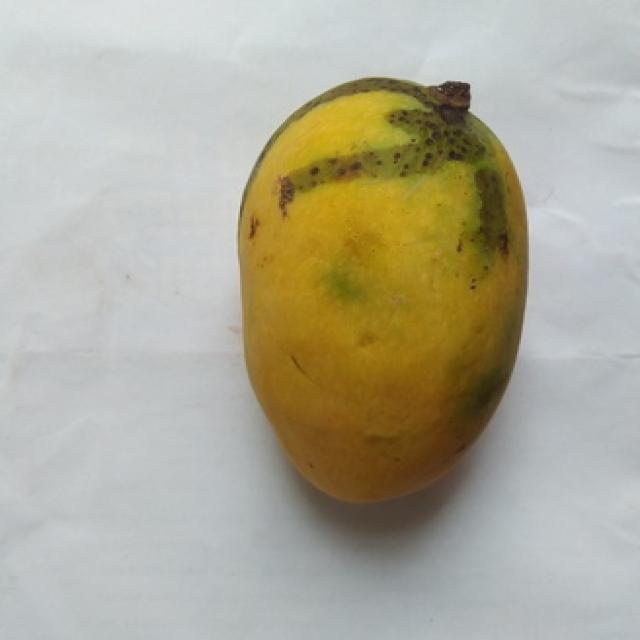Mango: (240, 78, 527, 500)
